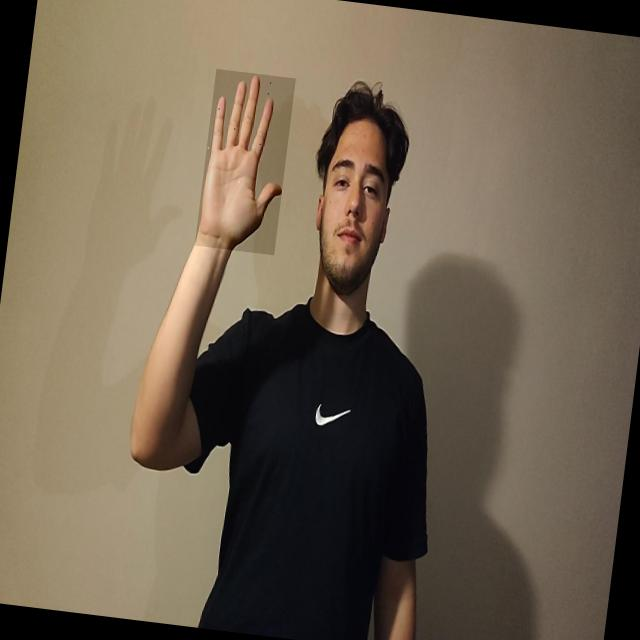hello: (194, 68, 295, 255)
